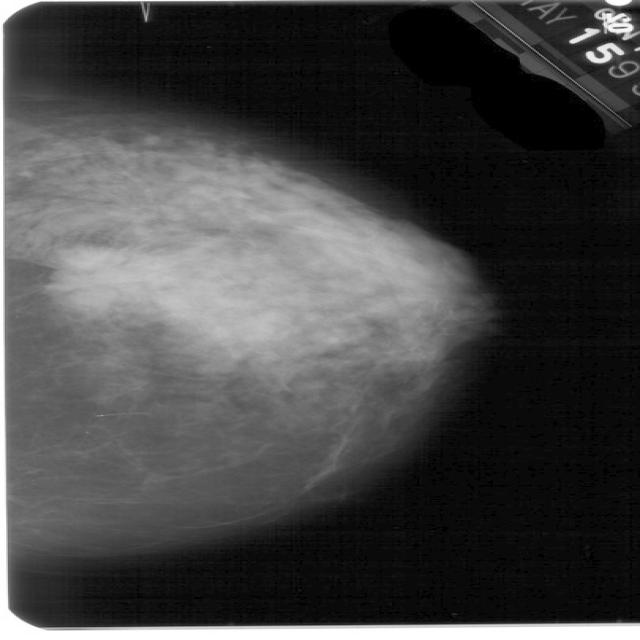tumour: (52, 245, 152, 307)
